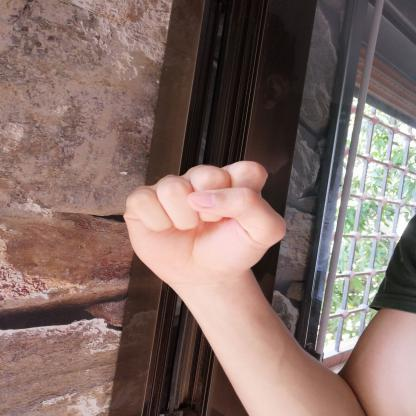SAD: (102, 148, 296, 296)
